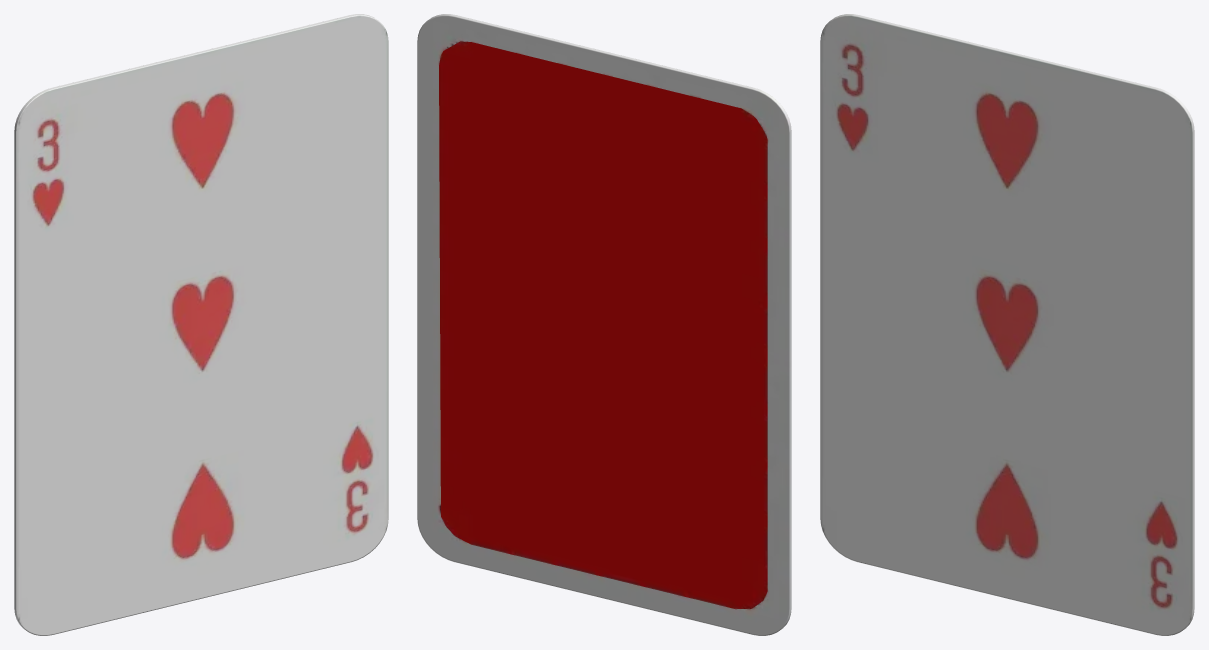
The model's file is hearts_3-transformed.glb.
3 renders of one model, left to right at view 1: azimuth 30°, elevation 25°; view 2: azimuth 150°, elevation 25°; view 3: azimuth 330°, elevation 25°, orthographic.
Visible parts, largest first — view 1: defaultMaterial.045; view 2: defaultMaterial.045; view 3: defaultMaterial.045.
Boxes of the visible parts, x1=… form: defaultMaterial.045: x1=14, y1=14, x2=388, y2=635; defaultMaterial.045: x1=417, y1=14, x2=791, y2=635; defaultMaterial.045: x1=820, y1=14, x2=1194, y2=635.
Bounding box in the file's own units: 0.1408 × 0.1972 × 0.00111.
Materials: 1 (1 with a texture image).
